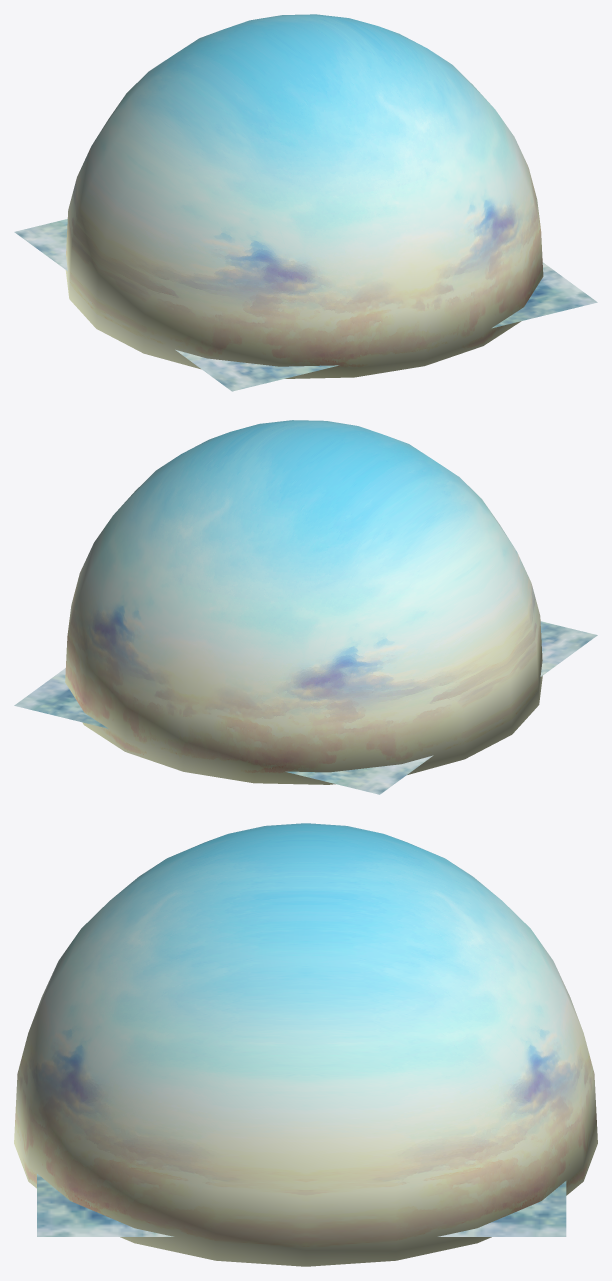
Rendered from smolwrld.glb.
3 views of the same model, one above another, from view 1: azimuth 30°, elevation 25°; view 2: azimuth 150°, elevation 25°; view 3: azimuth 270°, elevation 25° (orthographic). The views are drawn at different scales.
Visible parts, largest first — view 1: Sky.001MeshLOD0, Water2; view 2: Sky.001MeshLOD0, Water2; view 3: Sky.001MeshLOD0, Water2.
Boxes of the visible parts, <box> form: Sky.001MeshLOD0: <box>65,14,543,378</box>; Water2: <box>14,219,597,391</box>; Sky.001MeshLOD0: <box>65,420,542,784</box>; Water2: <box>14,621,597,794</box>; Sky.001MeshLOD0: <box>14,823,597,1266</box>; Water2: <box>37,1173,566,1236</box>.
Size of the model in its own units: 160 by 89.56 by 160.
Materials: 7 (7 with a texture image).
